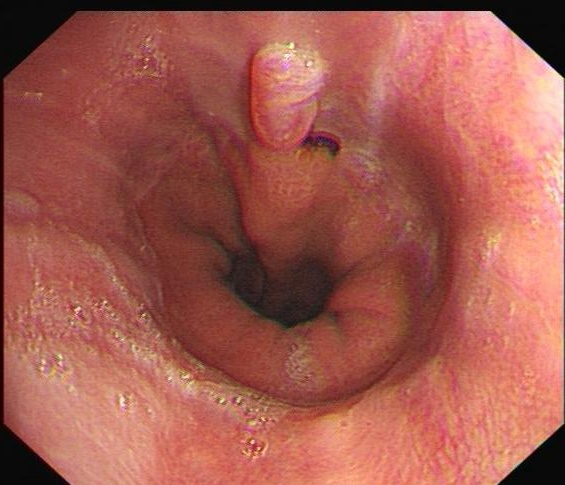Polyp: (243, 42, 342, 145)
